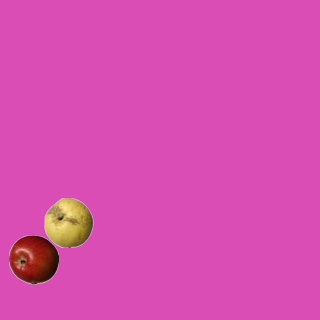Apple Braeburn: (8, 234, 58, 284)
Apple Golden 1: (43, 197, 93, 247)
